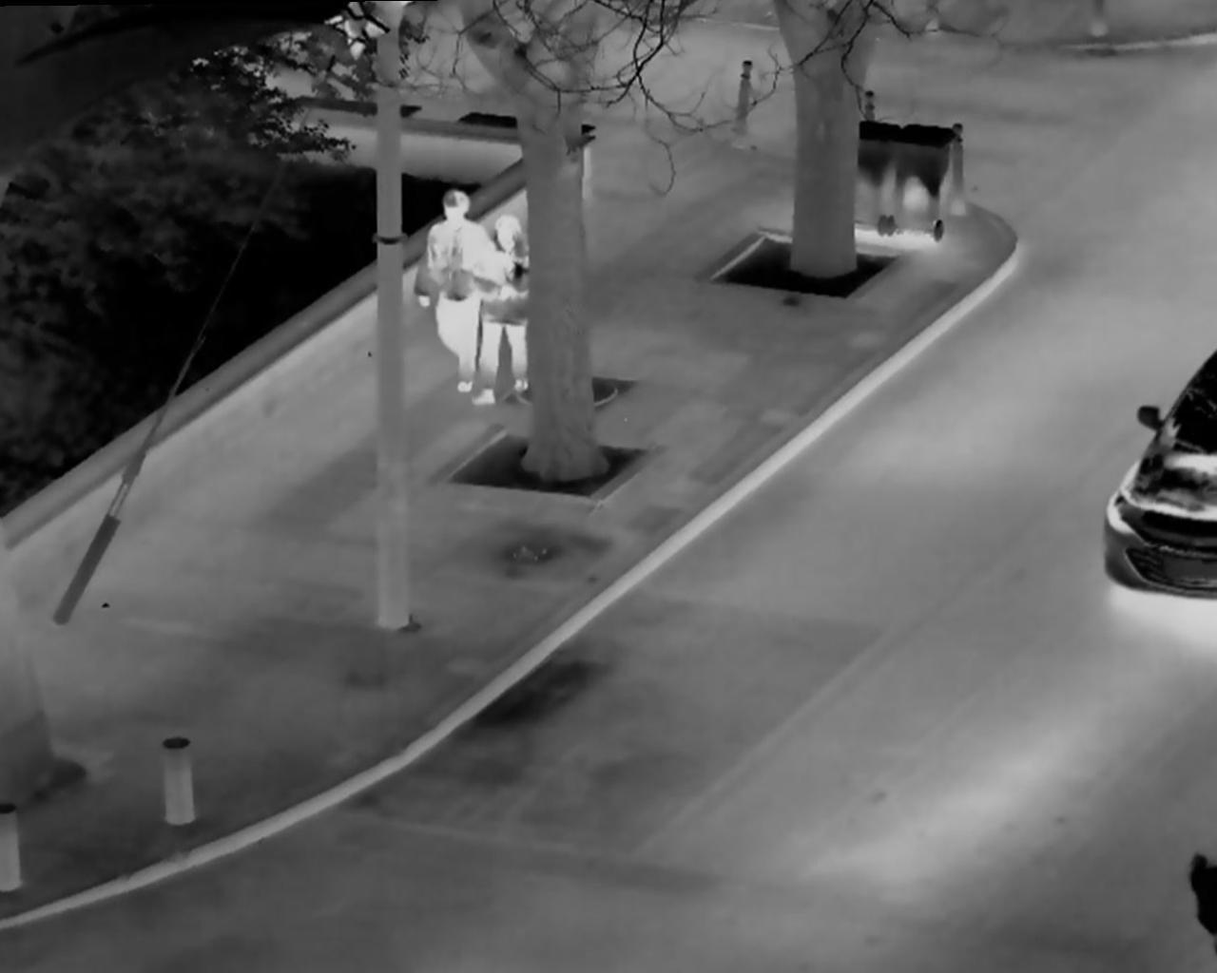person: (418, 180, 490, 395), (479, 209, 538, 407)
